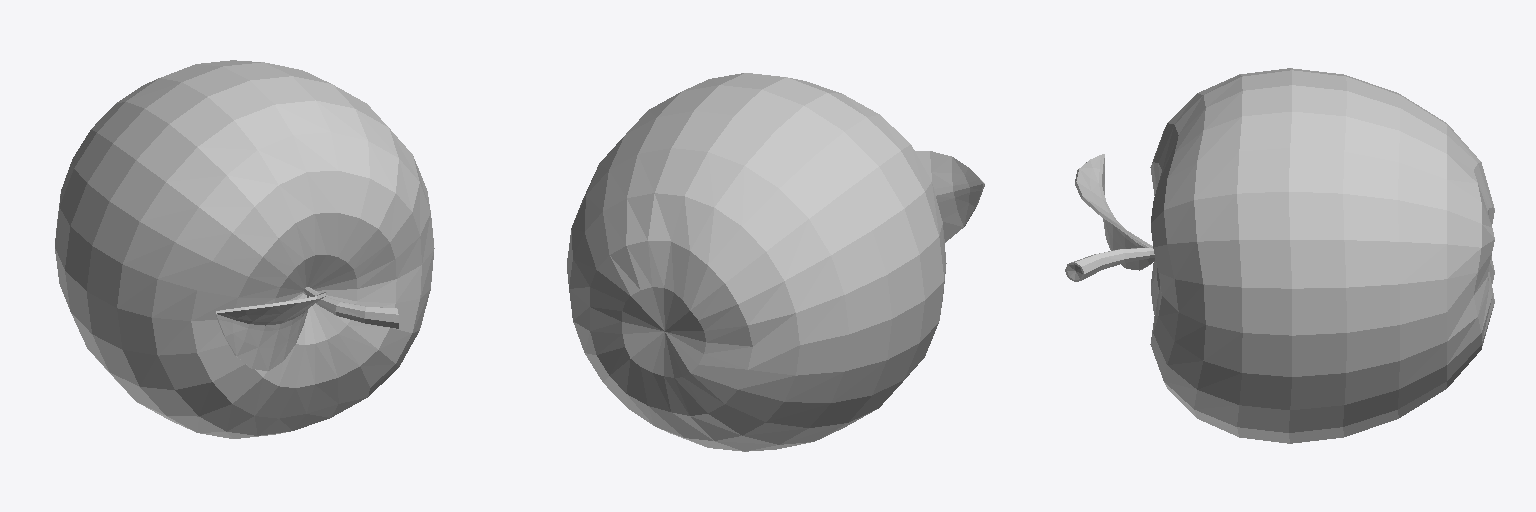
Rendered from apple.obj.
3 renders of one model, left to right at view 1: azimuth 30°, elevation 25°; view 2: azimuth 150°, elevation 25°; view 3: azimuth 270°, elevation 25°, orthographic.
Visible parts, largest first — view 1: Apple; view 2: Apple; view 3: Apple.
Part boxes in pixels (x1,y1,x2,y2): Apple: (55,60,434,438); Apple: (567,73,984,451); Apple: (1065,68,1494,443).
Size of the model in its own units: 7.99 by 7.99 by 9.11.